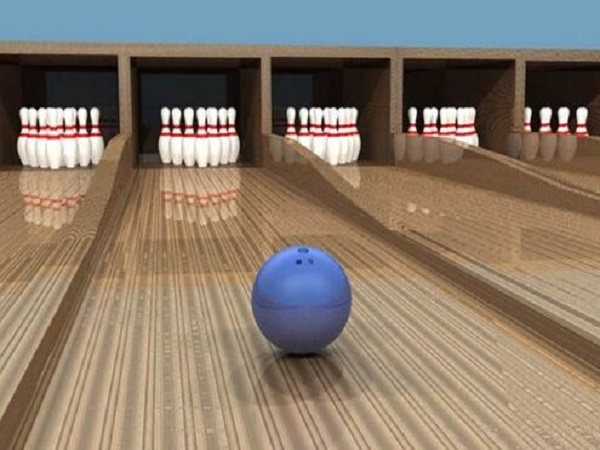ball: (252, 245, 353, 356)
